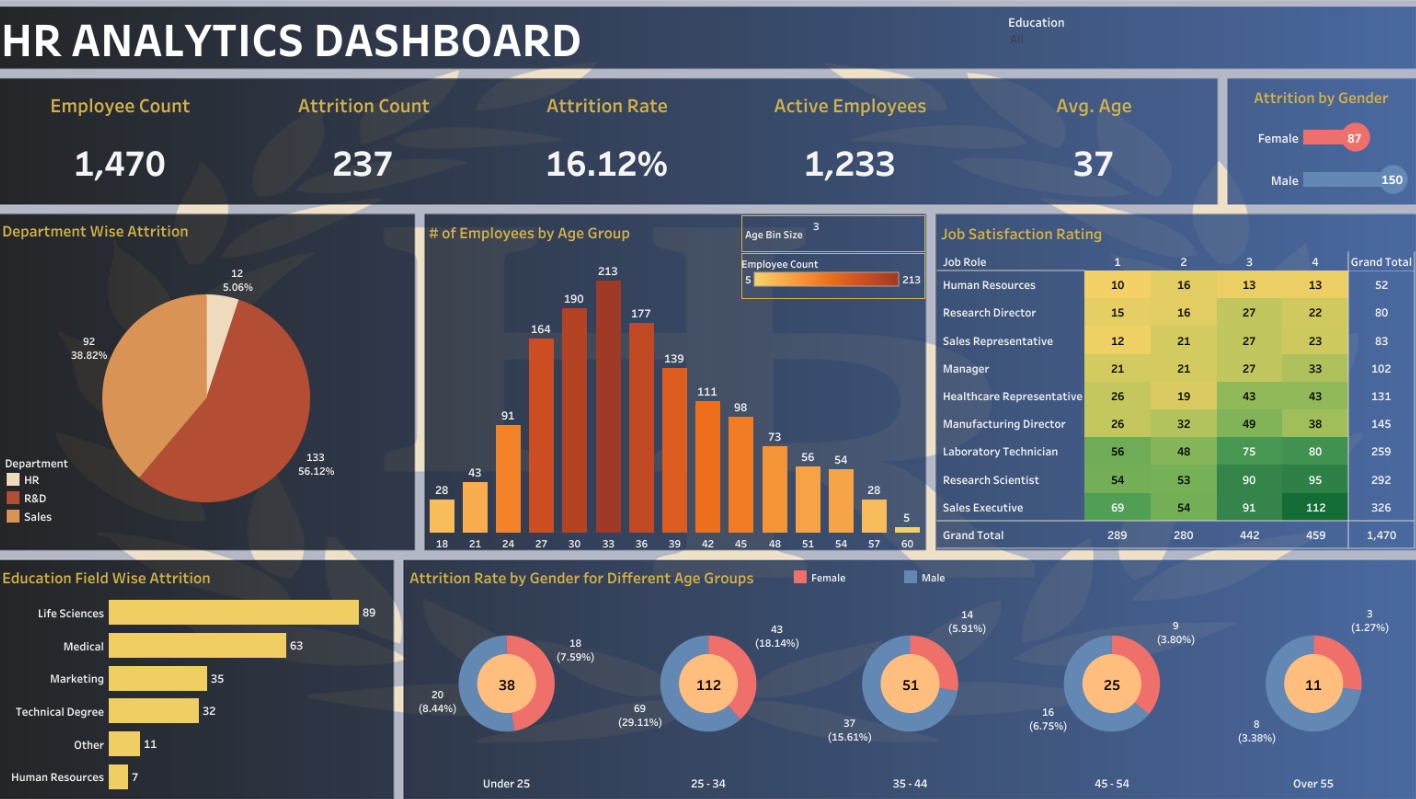

Layout of this report page (visuals, bound fields, positions):
{"tool":"powerbi","page":{"name":"Page 1","canvas":[1280,720],"ordinal":0},"visuals":[{"type":"card","title":"overall Employee","fields":{"Values":["Sum(HR data.Employee Count)"]},"box":[19.1,57.3,229,111.3],"z":0},{"type":"card","title":"Attrirtion","fields":{"Values":["Sum(HR data.Attrition count )"]},"box":[267.2,58.9,229,111.3],"z":1000},{"type":"card","title":"Attrirtion Rate","fields":{"Values":["HR data.Attrition Rate"]},"box":[510.6,60.4,237,111.3],"z":2000},{"type":"card","title":"Active Employees","fields":{"Values":["HR data.Acitve employees"]},"box":[766.7,60.4,240.2,111.3],"z":3000},{"type":"card","title":"Average Age","fields":{"Values":["Avg(HR data.Age)"]},"box":[1033.9,60.4,233.8,111.3],"z":4000},{"type":"pieChart","title":"Department wise Attrition ","fields":{"Category":["HR data.Department"],"Y":["Sum(HR data.Attrition count )"]},"box":[20.7,181.3,408.8,249.7],"z":5000},{"type":"columnChart","title":"No.of employee by the Age Group","fields":{"Category":["HR data.CF_age band"],"Y":["Sum(HR data.Employee Count)"],"Series":["HR data.Gender"]},"box":[451.7,182.9,383.3,248.1],"z":6000},{"type":"pivotTable","title":"Job satisfaction Rating ","fields":{"Rows":["HR data.Job Role"],"Columns":["HR data.Job Satisfaction"],"Values":["Sum(HR data.Employee Count)"]},"box":[852.6,182.9,415.1,248.1],"z":7000},{"type":"barChart","title":"Education Field wise Attrition","fields":{"Category":["HR data.Education Field"],"Y":["HR data.Attrition Rate"]},"box":[0,449.8,306.1,249.5],"z":8000},{"type":"donutChart","title":"Under 25","fields":{"Category":["HR data.Gender"],"Y":["Sum(HR data.Attrition count )"],"Series":["HR data.CF_age band"]},"box":[306.1,480,204.1,215.4],"z":9000},{"type":"textbox","box":[305.4,431.1,973.5,49.3],"z":10000},{"type":"donutChart","title":"25 - 34","fields":{"Category":["HR data.Gender"],"Y":["Sum(HR data.Attrition count )"],"Series":["HR data.CF_age band"]},"box":[508.4,480,192.8,215.4],"z":11000},{"type":"donutChart","title":"35 - 44","fields":{"Category":["HR data.Gender"],"Y":["Sum(HR data.Attrition count )"],"Series":["HR data.CF_age band"]},"box":[701.5,480.4,192.5,214.7],"z":12000},{"type":"donutChart","title":"45 - 54","fields":{"Category":["HR data.Gender"],"Y":["Sum(HR data.Attrition count )"],"Series":["HR data.CF_age band"]},"box":[893.9,480,187.1,215.4],"z":13000},{"type":"donutChart","title":"over 55","fields":{"Category":["HR data.Gender"],"Y":["Sum(HR data.Attrition count )"],"Series":["HR data.CF_age band"]},"box":[1081,481.9,198.4,215.4],"z":14000},{"type":"card","fields":{"Values":["Sum(HR data.Attrition count )"]},"box":[362.8,565,88.8,77.5],"z":15000},{"type":"card","fields":{"Values":["Sum(HR data.Attrition count )"]},"box":[559.4,557.5,88.8,77.5],"z":16000},{"type":"card","fields":{"Values":["Sum(HR data.Attrition count )"]},"box":[944.9,561.3,88.8,77.5],"z":18000},{"type":"card","fields":{"Values":["Sum(HR data.Attrition count )"]},"box":[1135.8,563.2,88.8,79.4],"z":19000},{"type":"textbox","box":[0,0,644.2,71.6],"z":20000},{"type":"slicer","fields":{"Values":["HR data.Education"]},"box":[579,4.8,691.9,47.7],"z":21000},{"type":"card","fields":{"Values":["Sum(HR data.Attrition count )"]},"box":[754,565,88.8,75.6],"z":21001}]}

Visuals, with their boxes in screenshot pixels (x1, y1, x2, y2), scaled from the page's 1280x720 canvas onto the 1416x799 screenshot:
"overall Employee" card: bbox=[21, 64, 274, 187]
"Attrirtion" card: bbox=[296, 65, 549, 189]
"Attrirtion Rate" card: bbox=[565, 67, 827, 191]
"Active Employees" card: bbox=[848, 67, 1114, 191]
"Average Age" card: bbox=[1144, 67, 1402, 191]
"Department wise Attrition " pieChart: bbox=[23, 201, 475, 478]
"No.of employee by the Age Group" columnChart: bbox=[500, 203, 924, 478]
"Job satisfaction Rating " pivotTable: bbox=[943, 203, 1402, 478]
"Education Field wise Attrition" barChart: bbox=[0, 499, 339, 776]
"Under 25" donutChart: bbox=[339, 533, 564, 772]
textbox: bbox=[338, 478, 1415, 533]
"25 - 34" donutChart: bbox=[562, 533, 776, 772]
"35 - 44" donutChart: bbox=[776, 533, 989, 771]
"45 - 54" donutChart: bbox=[989, 533, 1196, 772]
"over 55" donutChart: bbox=[1196, 535, 1415, 774]
card - Sum(HR data.Attrition count ): bbox=[401, 627, 500, 713]
card - Sum(HR data.Attrition count ): bbox=[619, 619, 717, 705]
card - Sum(HR data.Attrition count ): bbox=[1045, 623, 1144, 709]
card - Sum(HR data.Attrition count ): bbox=[1256, 625, 1355, 713]
textbox: bbox=[0, 0, 713, 79]
slicer - HR data.Education: bbox=[641, 5, 1406, 58]
card - Sum(HR data.Attrition count ): bbox=[834, 627, 932, 711]
